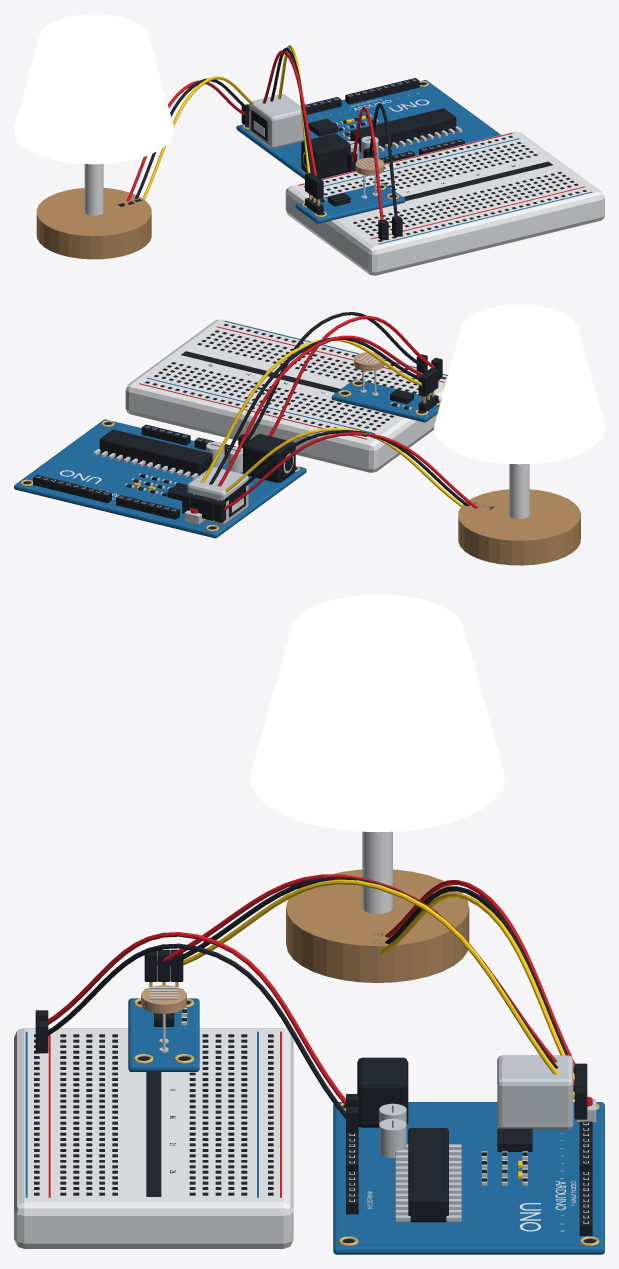
Rendered from automatic-night-light.glb.
3 views of the same model, one above another, from view 1: azimuth 30°, elevation 25°; view 2: azimuth 150°, elevation 25°; view 3: azimuth 270°, elevation 25° (orthographic). The views are drawn at different scales.
Parts seen in each view (by area): view 1: breadboard.025 • white, Project structure • light, Project structure • wood, microcontroller.025 • black, microcontroller.025 • blue, breadboard.025 • black, microcontroller.025 • silver, Jumper connections • black, Jumper connections • red, light-sensor.003 • blue, Jumper connections • yellow, Project structure • white (+5 smaller); view 2: breadboard.025 • white, Project structure • light, microcontroller.025 • blue, microcontroller.025 • black, Project structure • wood, Jumper connections • black, breadboard.025 • black, microcontroller.025 • silver, Jumper connections • red, Jumper connections • yellow, light-sensor.003 • blue, Project structure • white (+4 smaller); view 3: breadboard.025 • white, Project structure • light, microcontroller.025 • blue, Project structure • wood, microcontroller.025 • black, breadboard.025 • black, microcontroller.025 • silver, Jumper connections • black, Jumper connections • red, Jumper connections • yellow, light-sensor.003 • blue, Project structure • white (+1 smaller).
Boxes of the visible parts, x1,y1,x2,y2 form: breadboard.025 • white: (285,131,604,275); Project structure • light: (14,14,174,164); Project structure • wood: (36,188,151,259); microcontroller.025 • black: (245,78,464,178); microcontroller.025 • blue: (236,80,500,179); breadboard.025 • black: (304,135,586,241); microcontroller.025 • silver: (249,79,462,168); Jumper connections • black: (117,47,402,240); Jumper connections • red: (126,50,383,219); light-sensor.003 • blue: (295,183,405,223); Jumper connections • yellow: (142,45,310,199); Project structure • white: (84,164,103,215); breadboard.025 • white: (125,319,447,472); Project structure • light: (434,304,604,464); microcontroller.025 • blue: (14,419,306,538); microcontroller.025 • black: (23,422,297,529); Project structure • wood: (458,489,580,565); Jumper connections • black: (182,312,494,522); breadboard.025 • black: (145,323,446,436); microcontroller.025 • silver: (36,426,293,524); Jumper connections • red: (217,315,478,510); Jumper connections • yellow: (200,338,462,506); light-sensor.003 • blue: (331,379,441,422); Project structure • white: (509,464,529,518); breadboard.025 • white: (14,1028,293,1248); Project structure • light: (250,594,504,832); microcontroller.025 • blue: (333,1102,604,1254); Project structure • wood: (286,869,469,982); microcontroller.025 • black: (342,1057,595,1243); breadboard.025 • black: (34,1034,273,1196); microcontroller.025 • silver: (349,1055,596,1223); Jumper connections • black: (35,877,587,1132); Jumper connections • red: (48,874,575,1105); Jumper connections • yellow: (183,879,574,1099); light-sensor.003 • blue: (128,998,199,1071); Project structure • white: (362,831,392,913).
Bounding box in the file's own units: 170 × 68 × 116.
